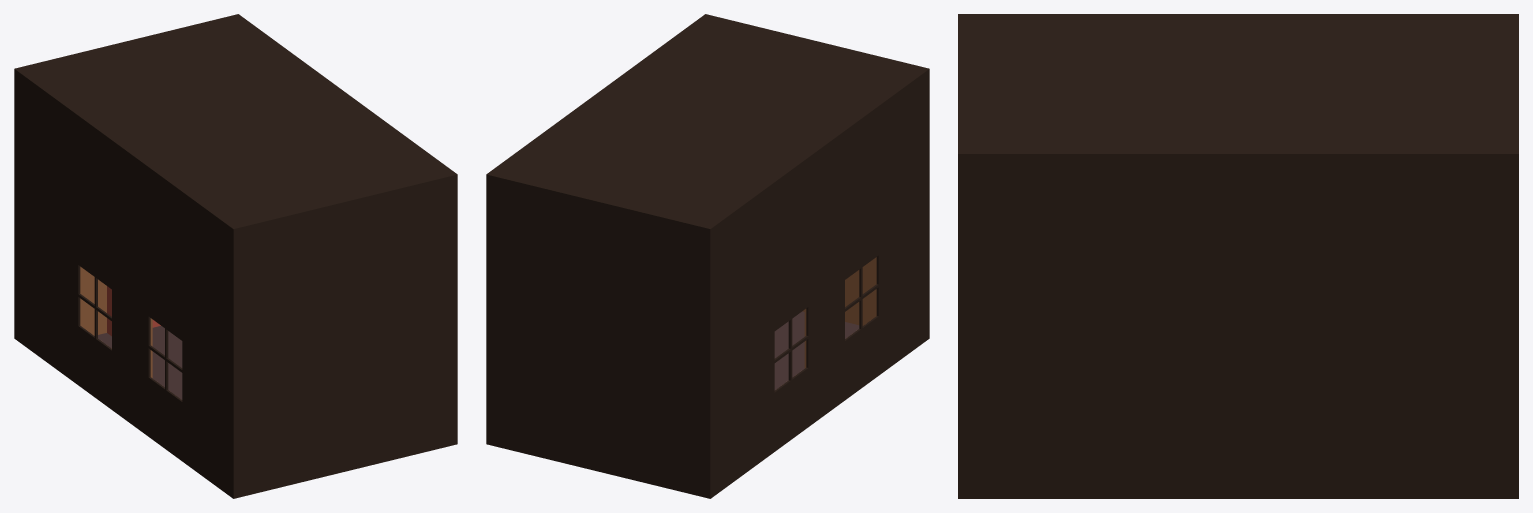
File: shelter_inner.glb
The picture shows the model from 3 angles, left to right: view 1: azimuth 30°, elevation 25°; view 2: azimuth 150°, elevation 25°; view 3: azimuth 270°, elevation 25°; orthographic projection. The views are drawn at different scales.
Parts seen in each view (by area): view 1: Cube; view 2: Cube; view 3: Cube.
Part boxes in pixels (box(x1,y1,x2,y2)): Cube: box(14, 14, 457, 498); Cube: box(486, 14, 929, 498); Cube: box(958, 14, 1518, 498).
Size of the model in its own units: 4.42 by 5.08 by 7.48.
